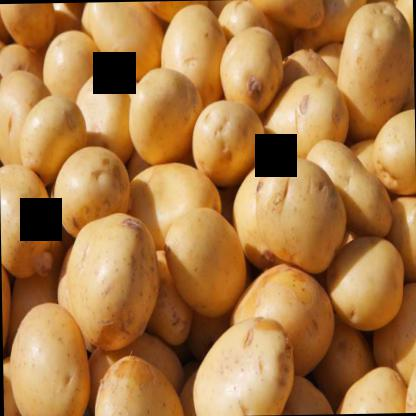potato: (232, 152, 346, 280), (66, 214, 162, 351), (230, 259, 334, 385), (177, 324, 294, 415), (161, 207, 248, 322), (338, 3, 409, 138), (9, 308, 91, 415), (324, 236, 406, 332), (128, 67, 204, 168), (263, 75, 349, 164), (52, 146, 134, 237), (80, 1, 166, 84), (0, 161, 55, 283), (160, 6, 225, 98), (194, 102, 265, 185), (220, 27, 284, 116), (89, 357, 187, 415), (74, 74, 134, 166), (22, 97, 86, 181), (0, 72, 52, 167), (45, 30, 104, 102), (0, 2, 56, 53)
